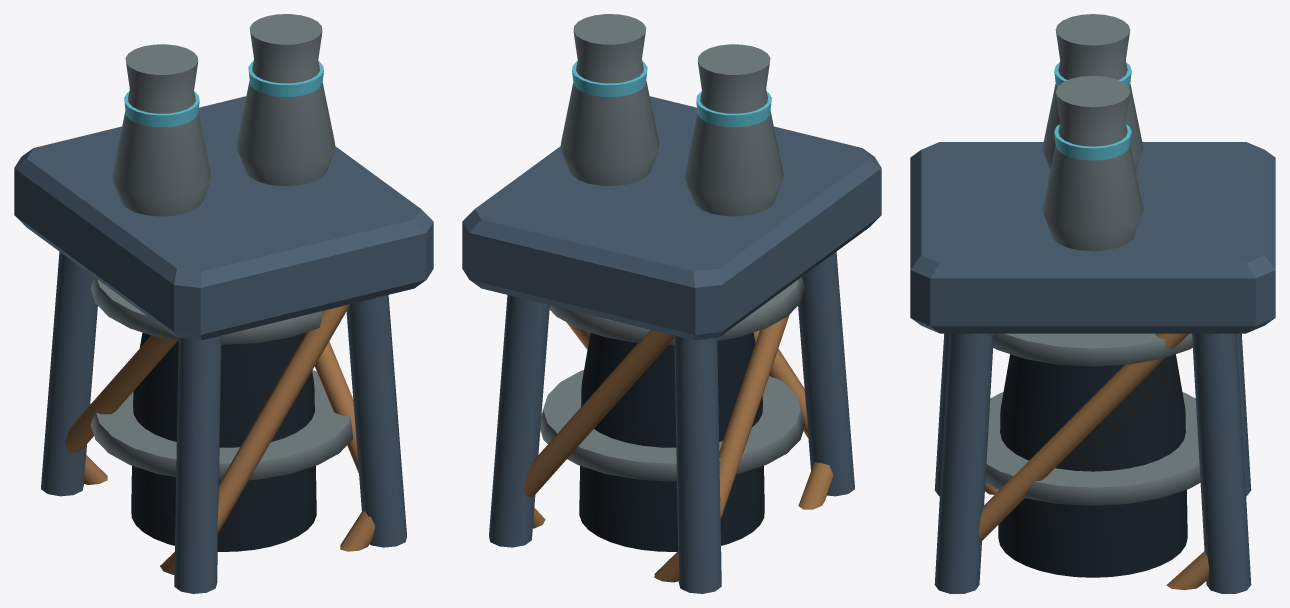
File: wreck_ignis_2.glb
The picture shows the model from 3 angles, left to right: view 1: azimuth 30°, elevation 25°; view 2: azimuth 150°, elevation 25°; view 3: azimuth 270°, elevation 25°; orthographic projection.
Parts seen in each view (by area): view 1: wreck_ignis_2; view 2: wreck_ignis_2; view 3: wreck_ignis_2.
Boxes of the visible parts, x1,y1,x2,y2 form: wreck_ignis_2: (14, 14, 433, 593); wreck_ignis_2: (462, 14, 881, 593); wreck_ignis_2: (910, 14, 1275, 593).
Size of the model in its own units: 2.05 by 3.53 by 2.45.
